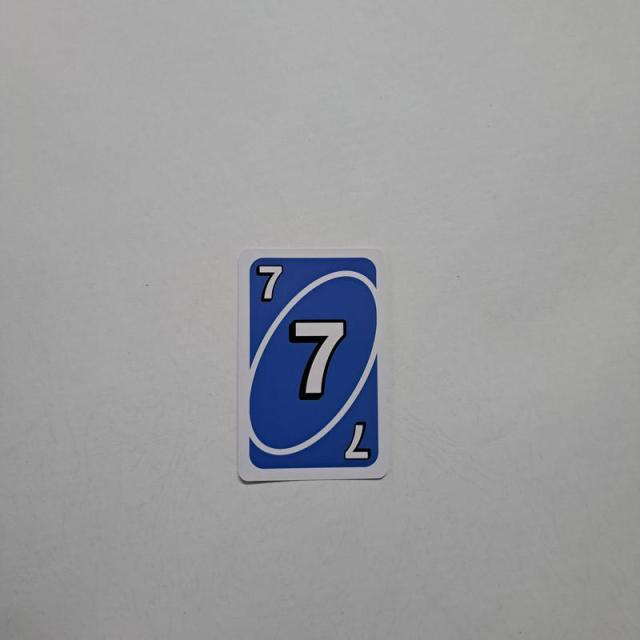Blue_Card: (243, 255, 384, 474)
Number_7: (254, 260, 288, 304)
